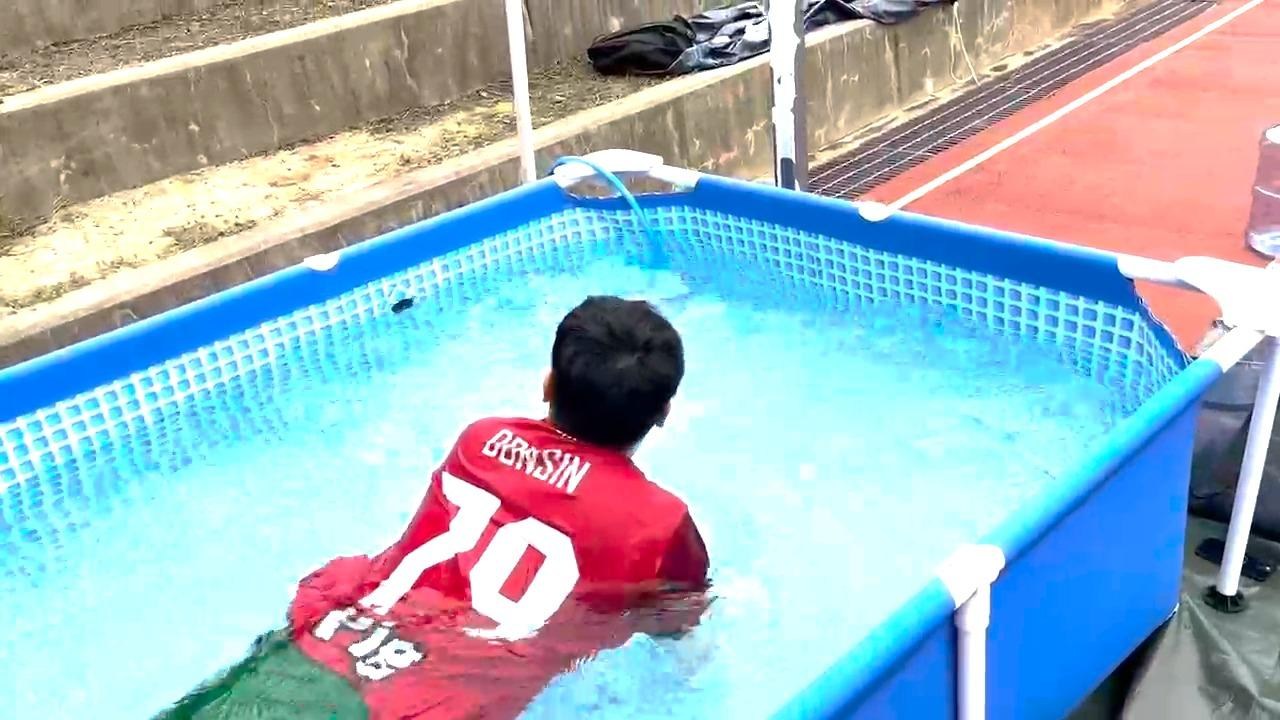Swimming: (149, 260, 780, 720)
